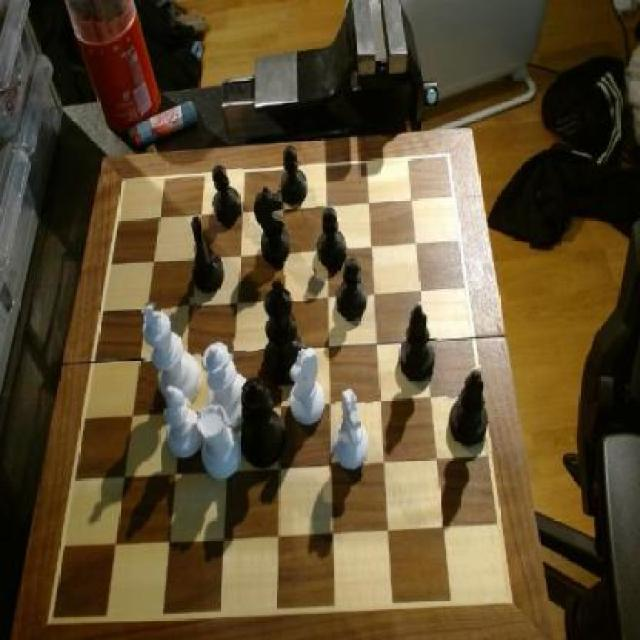bishop: (449, 368, 493, 453), (400, 302, 440, 386)
black-bishop: (258, 274, 307, 390)
black-king: (254, 186, 294, 265), (188, 216, 226, 296)
black-knight: (337, 257, 374, 325), (209, 163, 245, 225), (317, 208, 349, 269), (278, 145, 308, 207)
black-pawn: (237, 378, 288, 468)
black-rook: (158, 383, 204, 461)
white-bishop: (142, 297, 200, 408)
white-king: (334, 386, 374, 474), (288, 346, 327, 429)
white-pawn: (203, 340, 249, 427)
white-queen: (199, 402, 243, 482)
